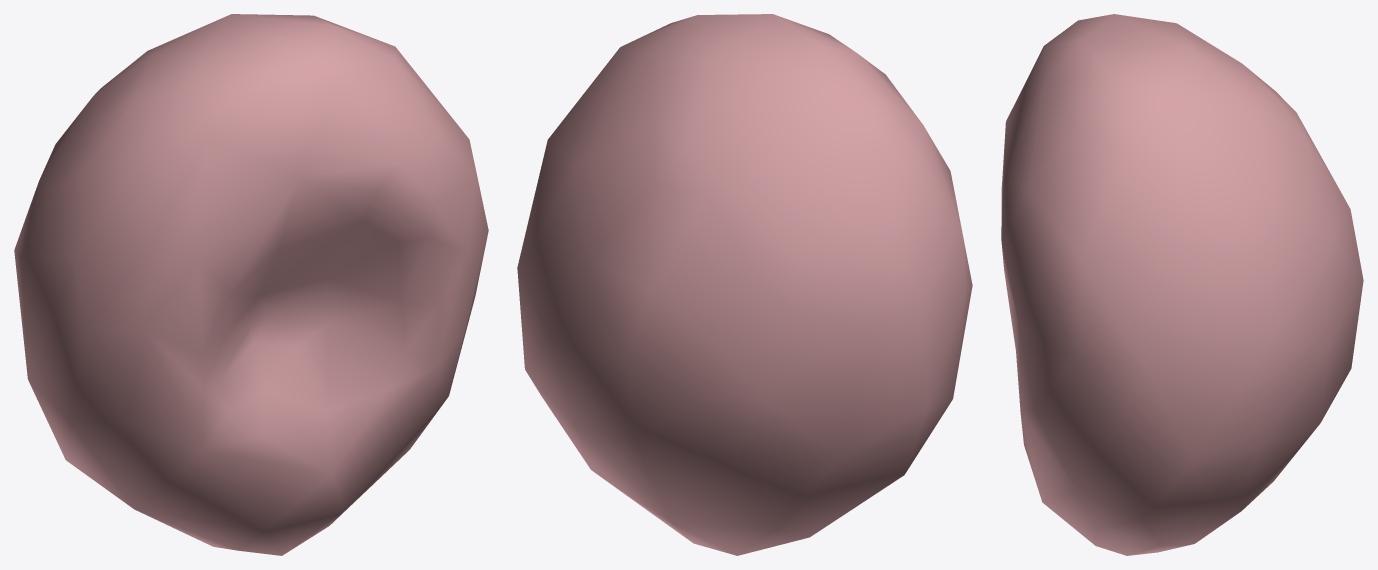
The model's file is fma74803_fj7443.glb.
3 renders of one model, left to right at view 1: azimuth 30°, elevation 25°; view 2: azimuth 150°, elevation 25°; view 3: azimuth 270°, elevation 25°, orthographic. The views are drawn at different scales.
Parts seen in each view (by area): view 1: FMA74803_FJ7443; view 2: FMA74803_FJ7443; view 3: FMA74803_FJ7443.
Part boxes in pixels (x1=…): FMA74803_FJ7443: x1=14, y1=14, x2=488, y2=555; FMA74803_FJ7443: x1=517, y1=14, x2=972, y2=555; FMA74803_FJ7443: x1=1001, y1=14, x2=1363, y2=555.
Size of the model in its own units: 0.0145 by 0.017 by 0.011.
